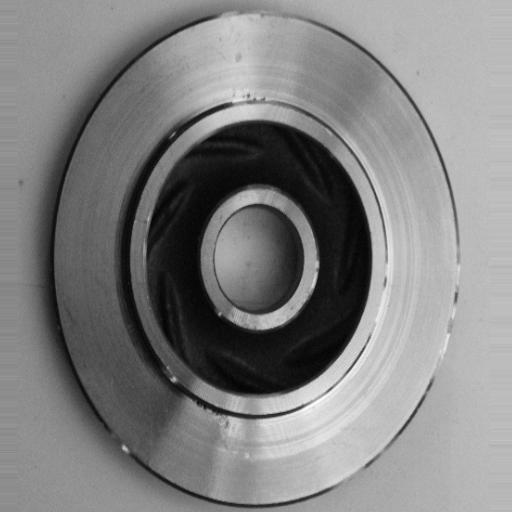scratch: (433, 242, 467, 382), (218, 0, 308, 42), (215, 83, 281, 113)
unpolished_casting: (52, 6, 465, 508)
